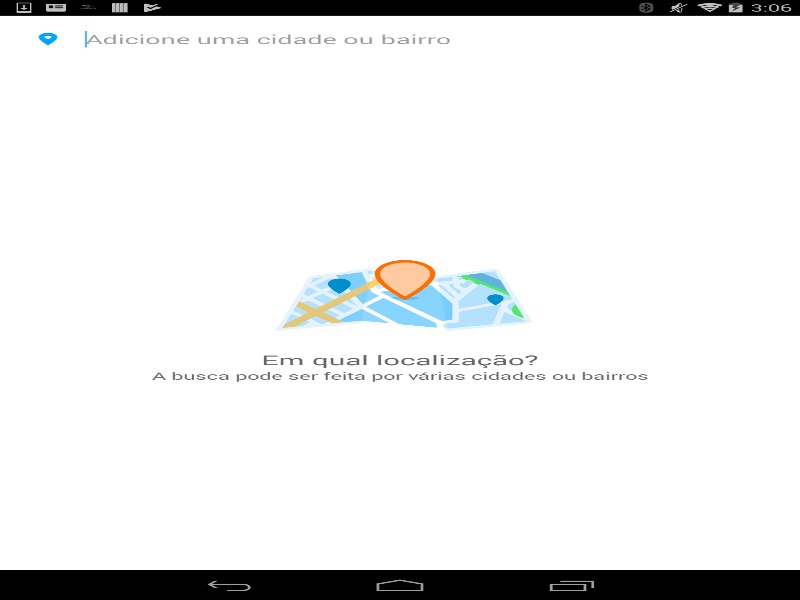Input: (85, 24, 768, 53)
